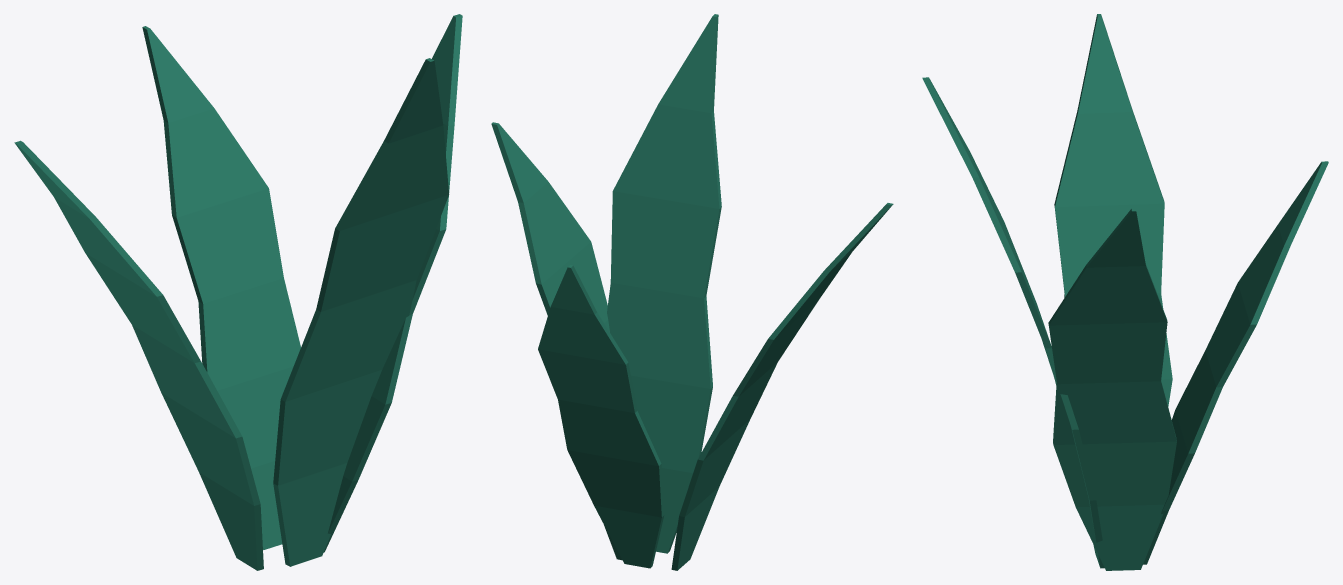
Rendered from plant_002a_broad_seaweed.glb.
3 views of the same model, side by side, from view 1: azimuth 30°, elevation 25°; view 2: azimuth 150°, elevation 25°; view 3: azimuth 270°, elevation 25° (orthographic). The views are drawn at different scales.
Parts seen in each view (by area): view 1: plant_002a_broad_seaweed__mesh; view 2: plant_002a_broad_seaweed__mesh; view 3: plant_002a_broad_seaweed__mesh.
Part boxes in pixels (<box>): plant_002a_broad_seaweed__mesh: <box>14,14,462,570</box>; plant_002a_broad_seaweed__mesh: <box>491,14,893,570</box>; plant_002a_broad_seaweed__mesh: <box>922,14,1328,570</box>.
Size of the model in its own units: 0.9614 by 1.12 by 0.8359.
